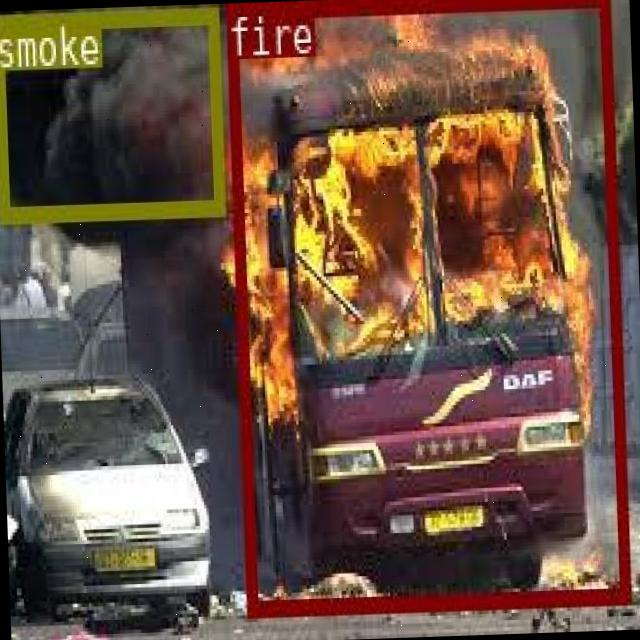fire: (224, 0, 628, 615)
smoke: (0, 4, 222, 219)
